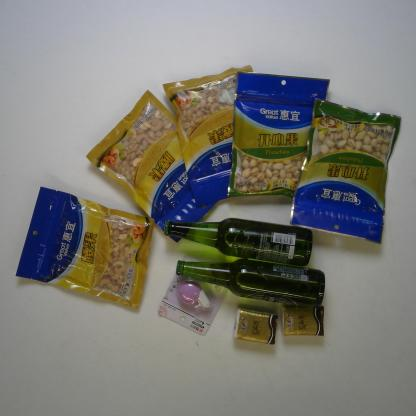Alcohol: (172, 253, 329, 311), (161, 209, 317, 267)
Dried Fruit: (83, 89, 219, 243), (13, 184, 160, 316), (288, 94, 404, 248), (226, 66, 336, 204), (160, 63, 259, 208)
Stationery: (157, 270, 230, 338)
Tissue: (232, 302, 278, 349), (279, 302, 328, 339)
